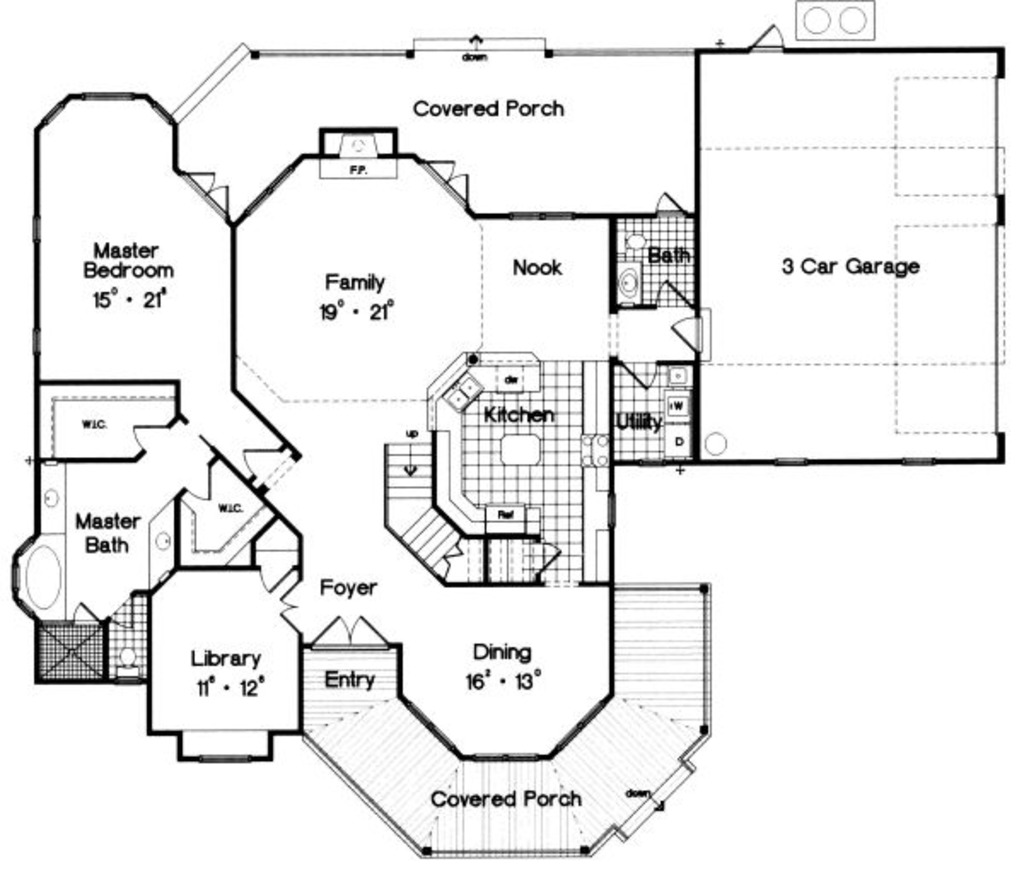door: (297, 612, 399, 645), (182, 165, 242, 219), (420, 155, 471, 216), (118, 411, 181, 455), (733, 18, 792, 59), (663, 316, 715, 357), (239, 441, 288, 484), (181, 454, 220, 505), (243, 558, 295, 595), (274, 576, 307, 633), (654, 180, 683, 220), (67, 595, 97, 627)
large_sink: (107, 633, 146, 686), (607, 226, 654, 257)
small_sink: (33, 463, 67, 530), (142, 520, 182, 569), (618, 258, 643, 312)
stairs: (367, 438, 483, 590)
tub: (15, 533, 63, 618)
twin_sink: (431, 361, 483, 415)
window: (171, 33, 257, 130)
